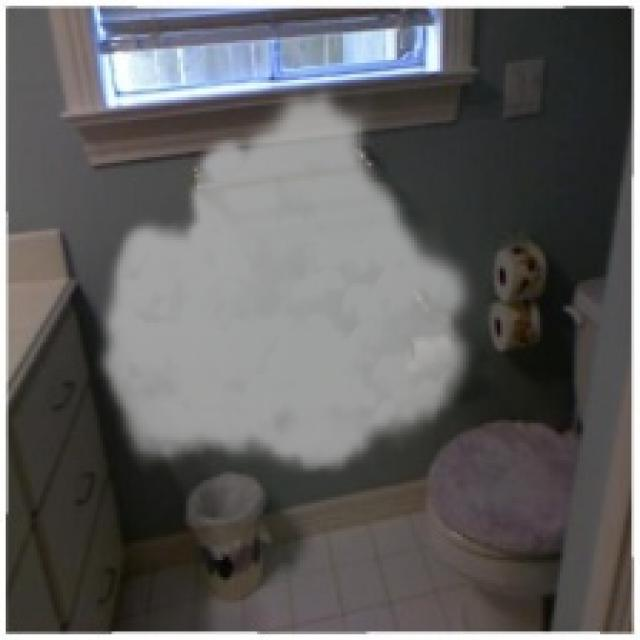smoke: (94, 80, 483, 477)
